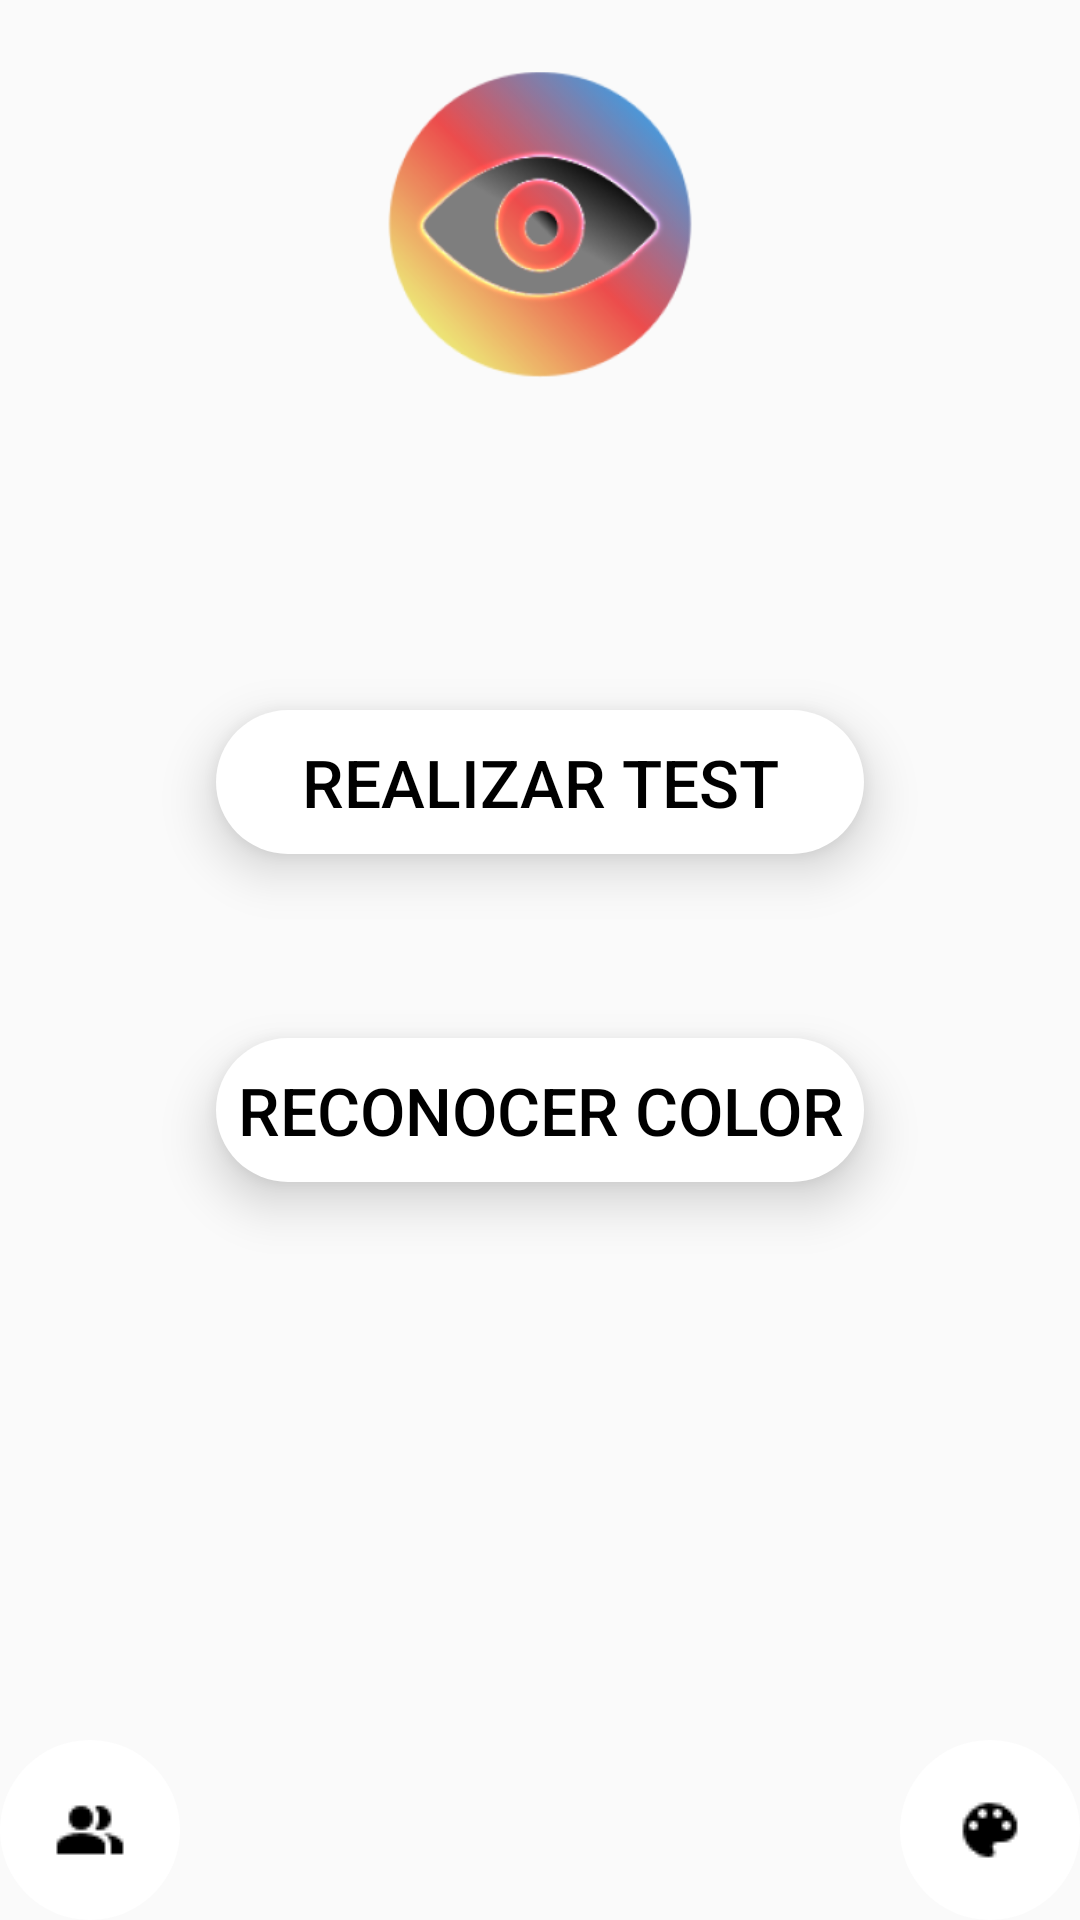

Icon click points for this 1080×1920 phone screenshot, format [x,y]:
palette: [990,1830]
profiles: [90,1830]
